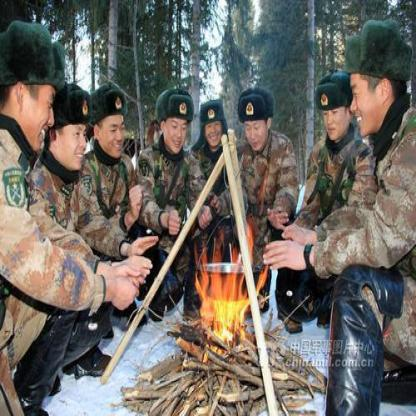fire: (189, 228, 278, 354)
